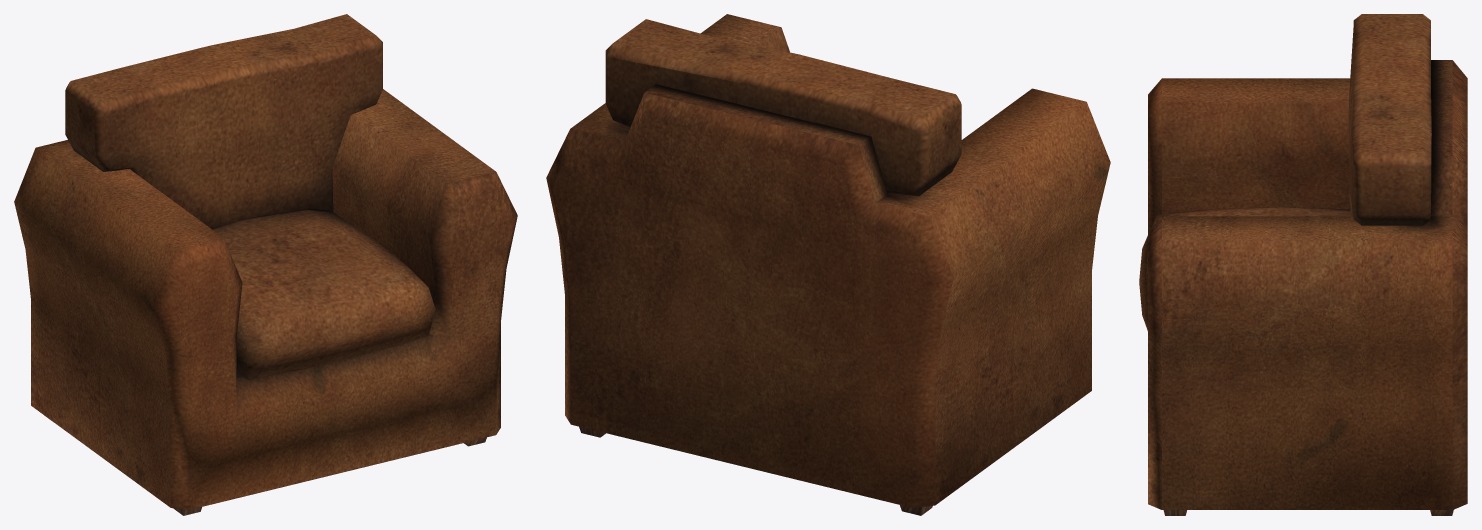
Rendered from sofaChair.fbx.
3 renders of one model, left to right at view 1: azimuth 30°, elevation 25°; view 2: azimuth 150°, elevation 25°; view 3: azimuth 270°, elevation 25°, orthographic. The views are drawn at different scales.
Visible parts, largest first — view 1: sofaChair; view 2: sofaChair; view 3: sofaChair.
Part boxes in pixels (left/top/right/bottom): sofaChair: left=14, top=14, right=517, bottom=515; sofaChair: left=546, top=14, right=1110, bottom=515; sofaChair: left=1139, top=14, right=1467, bottom=515.
Bounding box in the file's own units: 2.1 × 1.89 × 1.58.
1 material, 1 textured.
